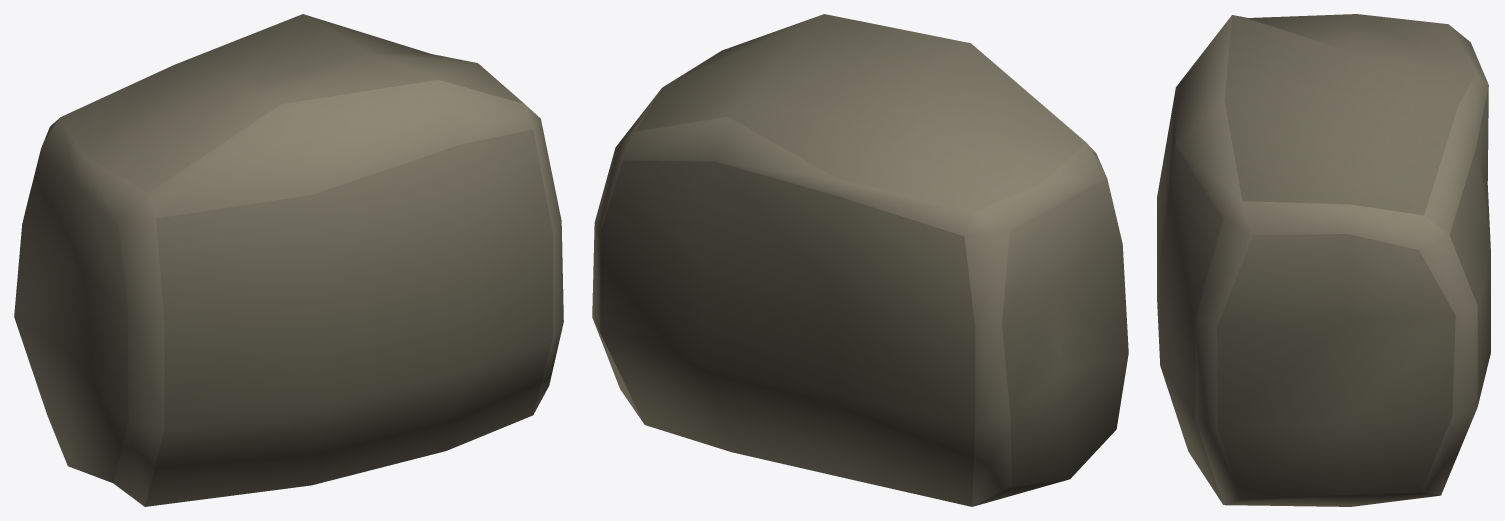
File: orc_stone_small.fbx
The picture shows the model from 3 angles, left to right: view 1: azimuth 30°, elevation 25°; view 2: azimuth 150°, elevation 25°; view 3: azimuth 270°, elevation 25°; orthographic projection. The views are drawn at different scales.
Parts seen in each view (by area): view 1: orc_stone_small; view 2: orc_stone_small; view 3: orc_stone_small.
Part boxes in pixels (bbox=[...]): orc_stone_small: bbox=[14, 14, 563, 506]; orc_stone_small: bbox=[592, 14, 1128, 506]; orc_stone_small: bbox=[1157, 14, 1490, 506].
Bounding box in the file's own units: 100 × 81.05 × 66.44.
